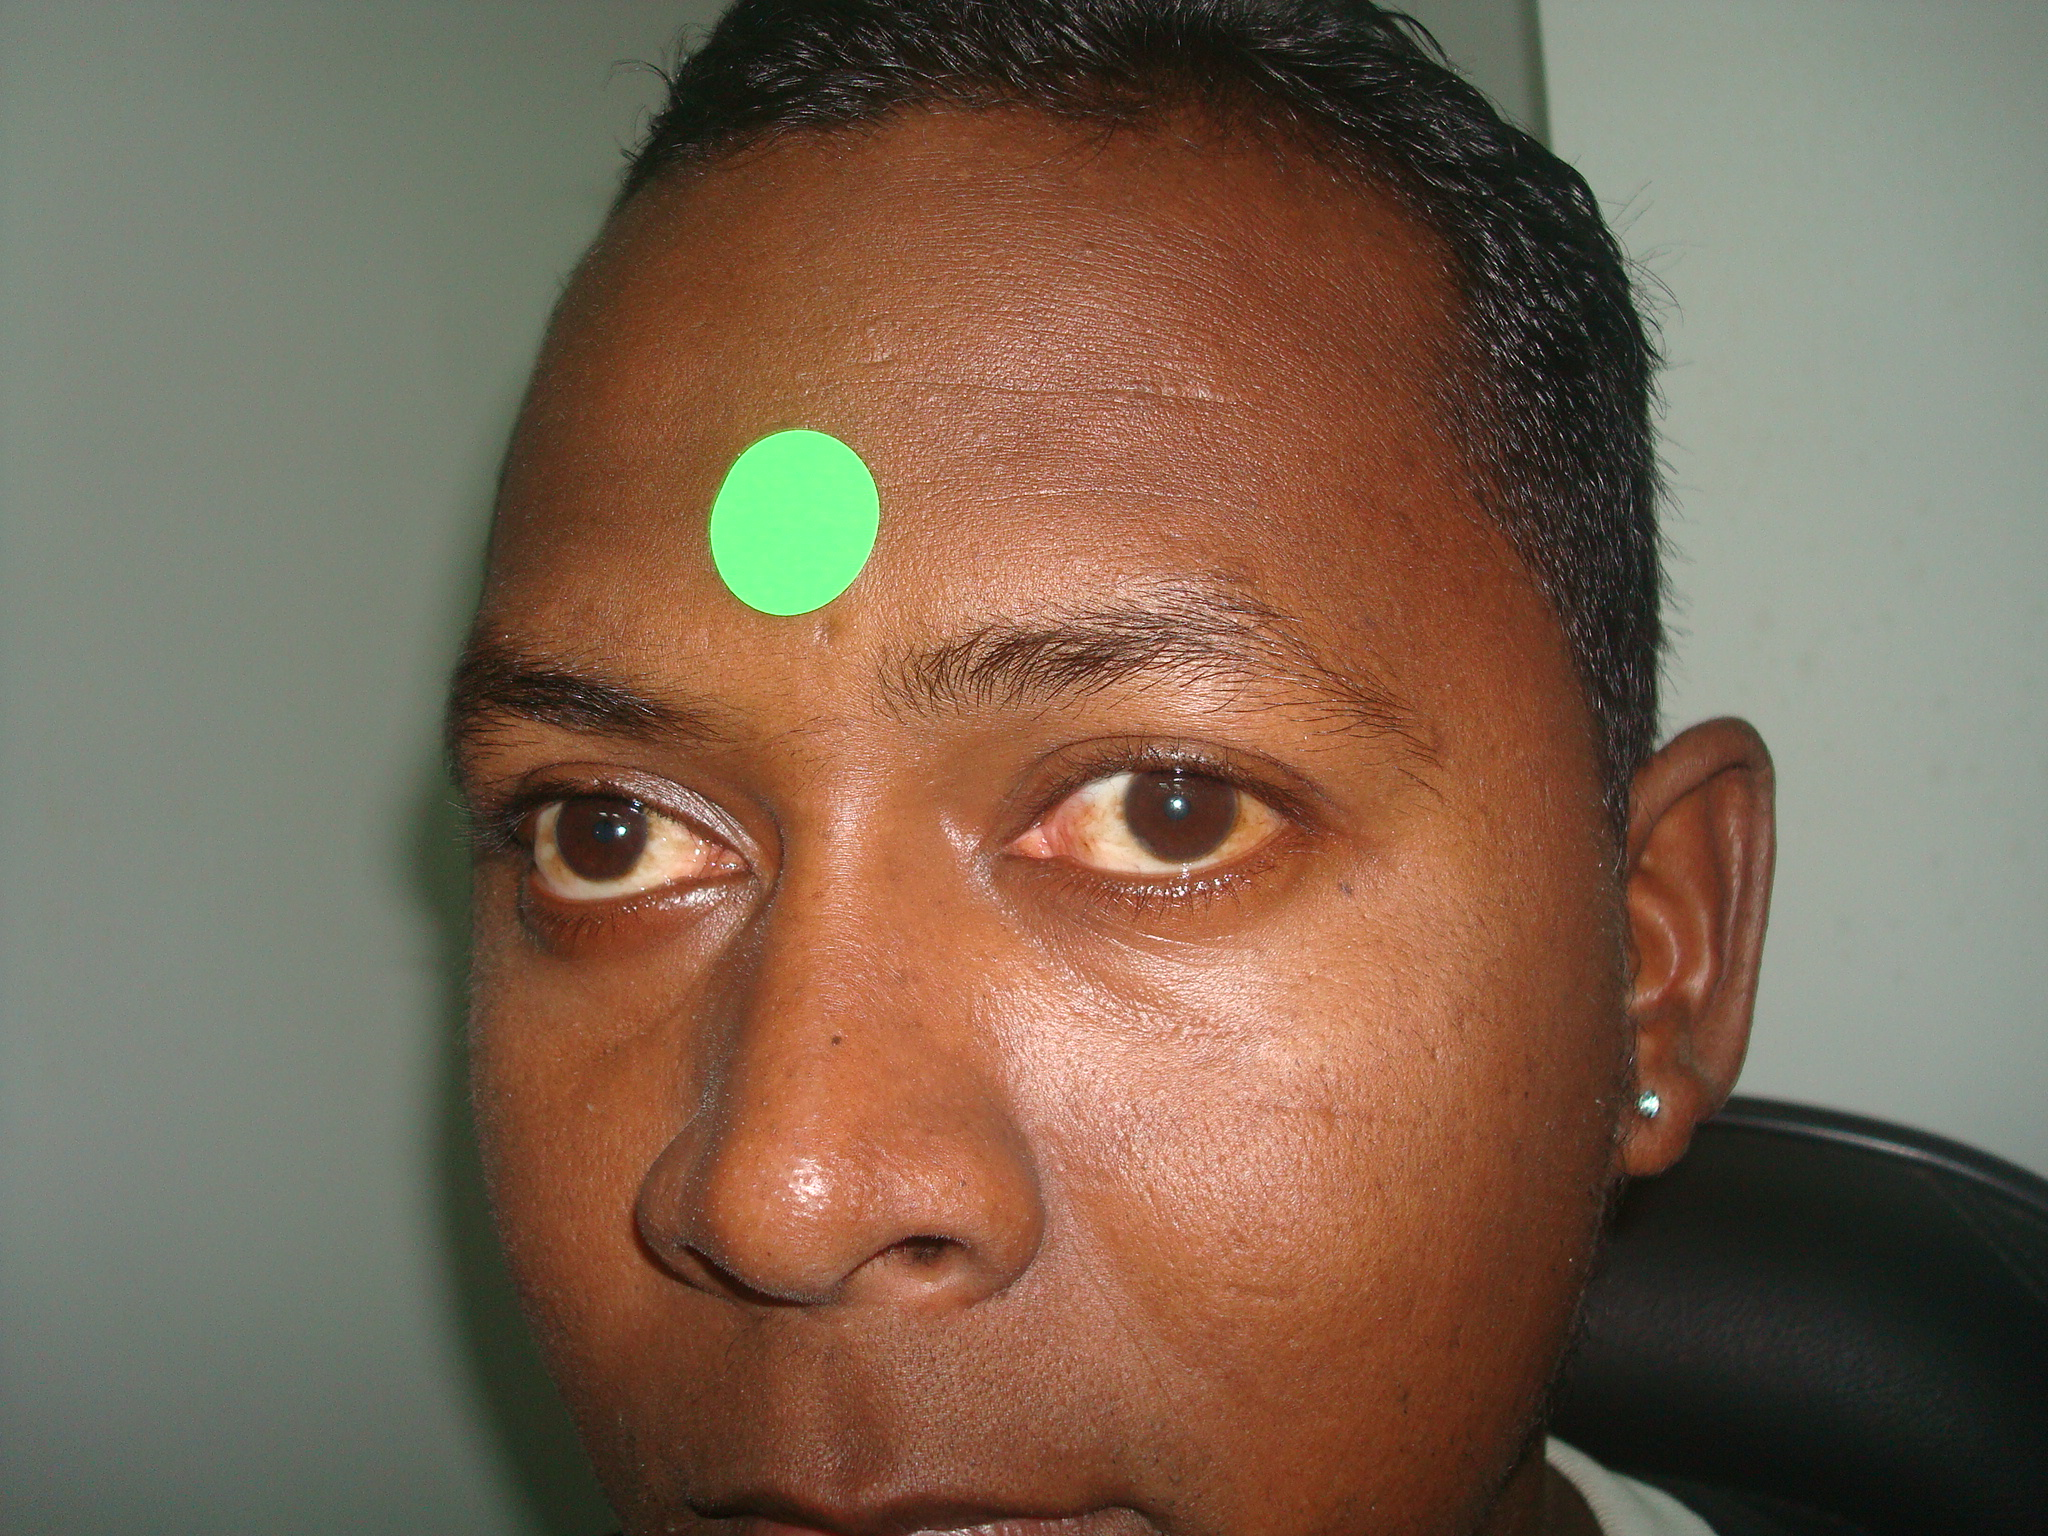flash: (614, 821, 631, 839), (1169, 795, 1185, 812)
limbo: (1124, 760, 1230, 855), (561, 783, 647, 878)
